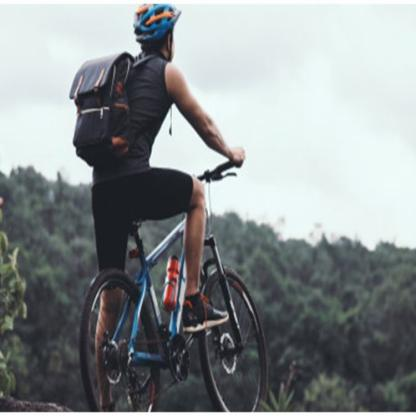Bike: (69, 147, 276, 416)
